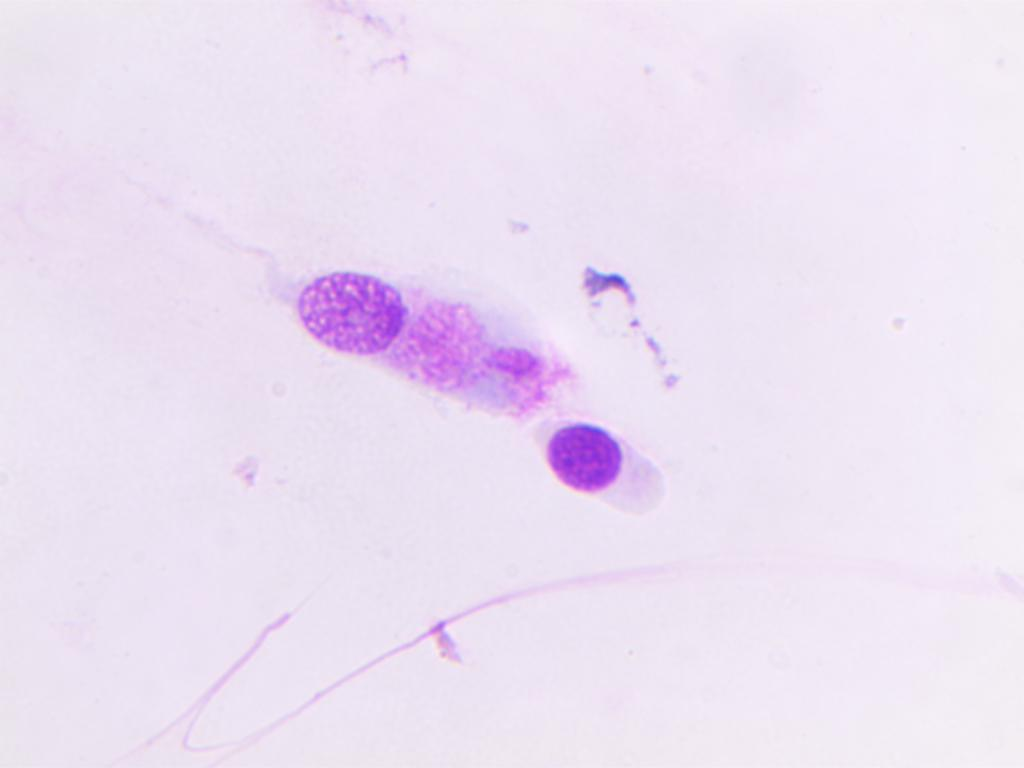epithelial: (532, 418, 683, 516)
goblet_cell: (282, 266, 572, 393)
